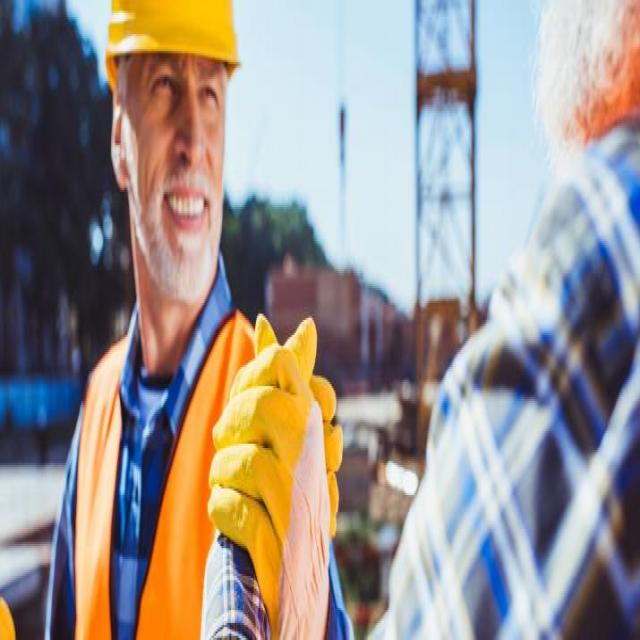Reflective-Jacket: (72, 290, 281, 640)
Safety-Helmet: (101, 0, 243, 87)
